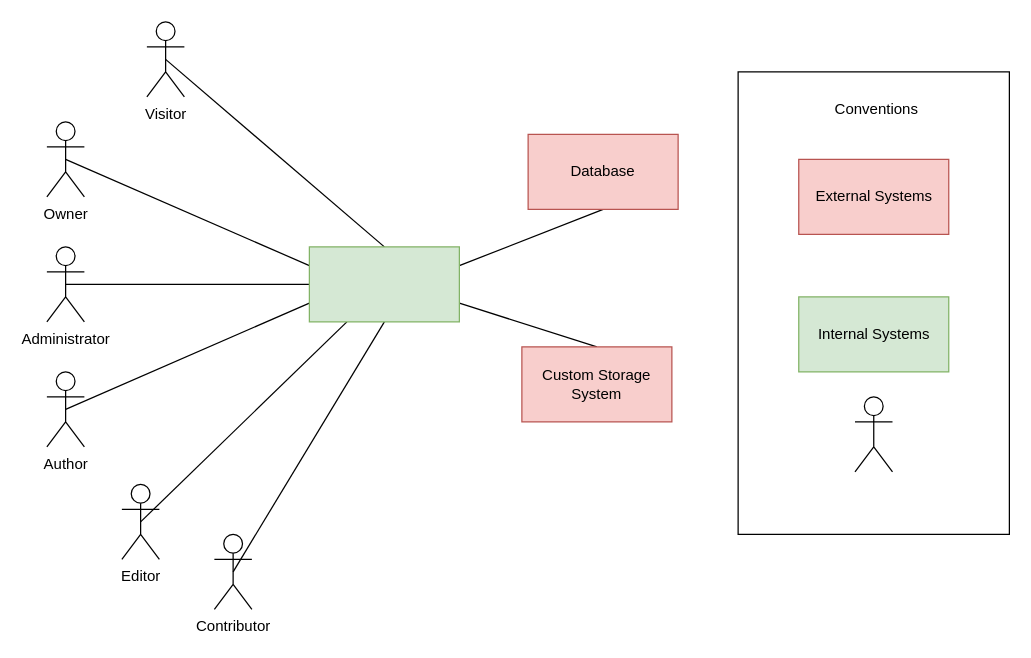
Image size: 1031x658. Some labels were removed from this diagram. The centre of each missing label's shape, as x and y in pixels:
Actors: the point at 873,434
APP Under Test: the point at 383,284
